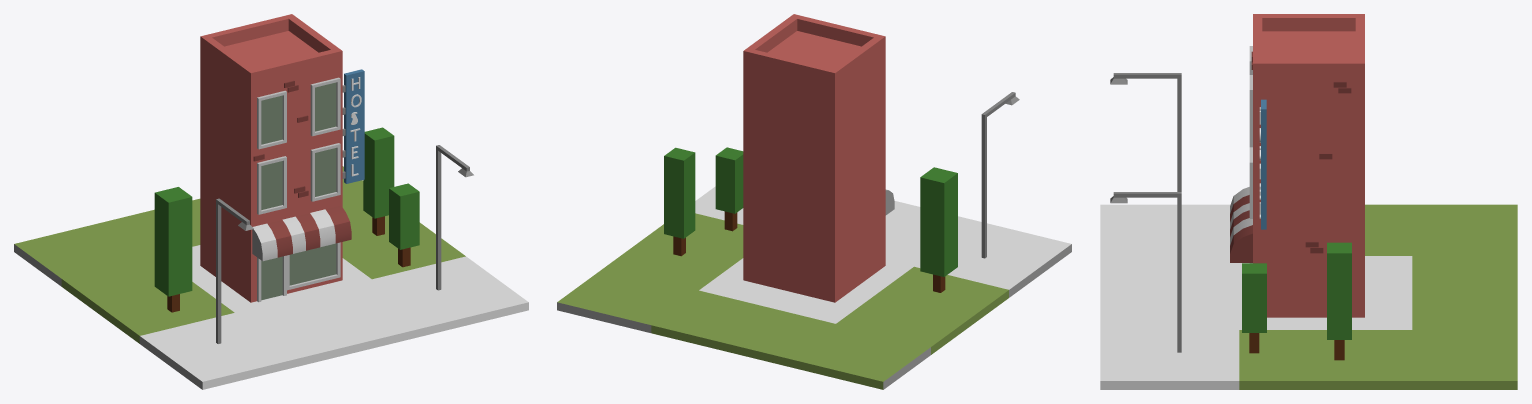
File: HostelJulio.fbx
3 renders of one model, left to right at view 1: azimuth 30°, elevation 25°; view 2: azimuth 150°, elevation 25°; view 3: azimuth 270°, elevation 25°, orthographic. The views are drawn at different scales.
Visible parts, largest first — view 1: pCube1, pCube2, pCube27, pCube9, pCube28, pCube12, pCube11, pCube30, pCube6, pCube3, pCube4, pCube5 (+3 smaller); view 2: pCube1, pCube2, pCube27, pCube28, pCube30, pCube34; view 3: pCube1, pCube2, pCube28, pCube30, pCube9, pCube35, pCube34, pCube12.
Boxes of the visible parts, x1=… form: pCube1: x1=14, y1=166, x2=528, y2=389; pCube2: x1=200, y1=14, x2=342, y2=302; pCube27: x1=154, y1=187, x2=192, y2=296; pCube9: x1=252, y1=205, x2=351, y2=261; pCube28: x1=363, y1=127, x2=394, y2=218; pCube12: x1=344, y1=69, x2=364, y2=183; pCube11: x1=287, y1=242, x2=340, y2=290; pCube30: x1=389, y1=183, x2=419, y2=249; pCube6: x1=310, y1=143, x2=340, y2=201; pCube3: x1=310, y1=77, x2=340, y2=136; pCube4: x1=257, y1=90, x2=286, y2=149; pCube5: x1=257, y1=156, x2=286, y2=214; pCube1: x1=557, y1=186, x2=1071, y2=389; pCube2: x1=743, y1=14, x2=885, y2=302; pCube27: x1=920, y1=167, x2=957, y2=276; pCube28: x1=664, y1=147, x2=695, y2=238; pCube30: x1=715, y1=147, x2=743, y2=213; pCube34: x1=981, y1=92, x2=1019, y2=258; pCube1: x1=1100, y1=204, x2=1517, y2=389; pCube2: x1=1253, y1=14, x2=1364, y2=317; pCube28: x1=1327, y1=242, x2=1351, y2=339; pCube30: x1=1242, y1=263, x2=1266, y2=332; pCube9: x1=1230, y1=187, x2=1252, y2=262; pCube35: x1=1110, y1=192, x2=1181, y2=352; pCube34: x1=1110, y1=73, x2=1181, y2=191; pCube12: x1=1261, y1=99, x2=1266, y2=229.
Size of the model in its own units: 18.01 by 12.53 by 18.01.
